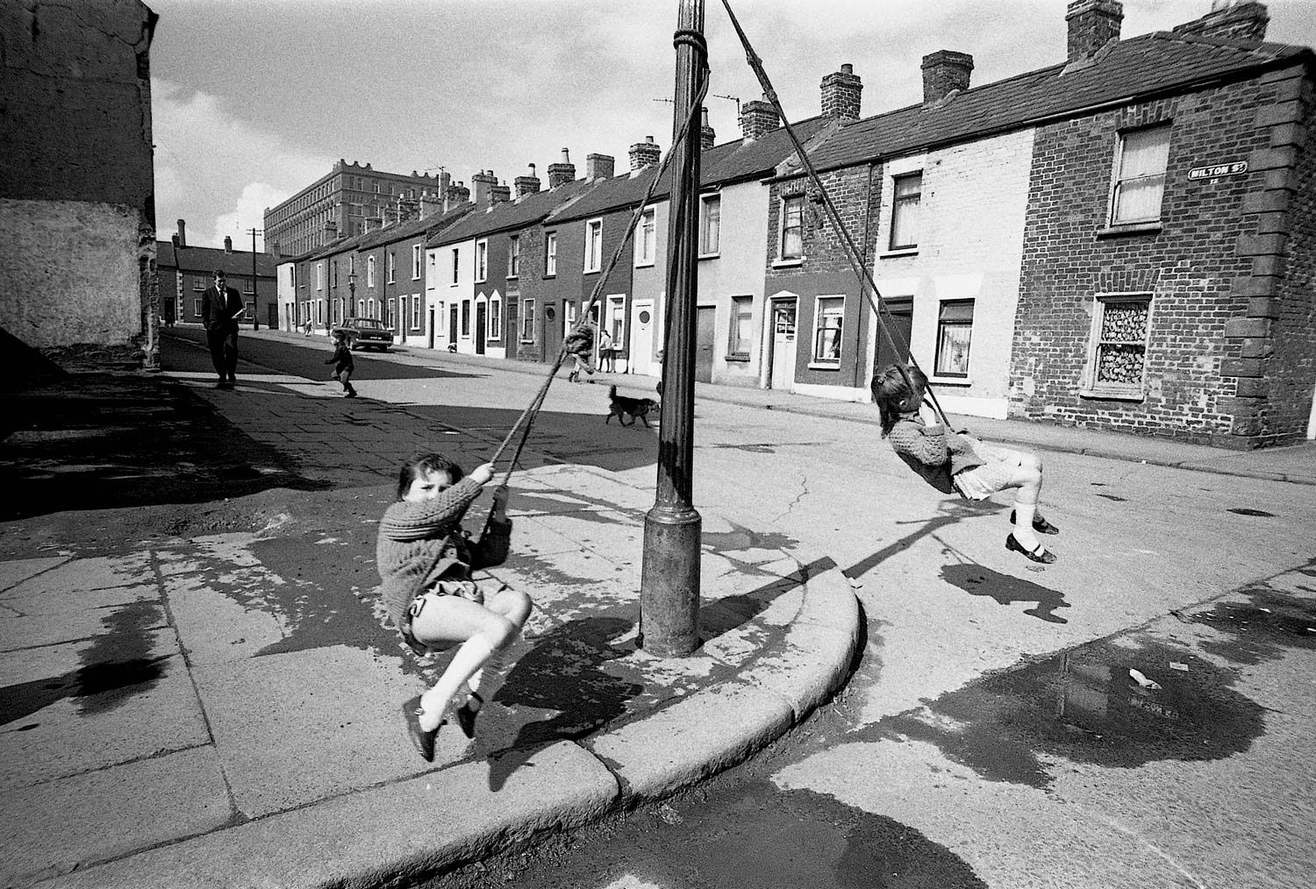Person: (364, 444, 567, 774), (854, 337, 1087, 573)
